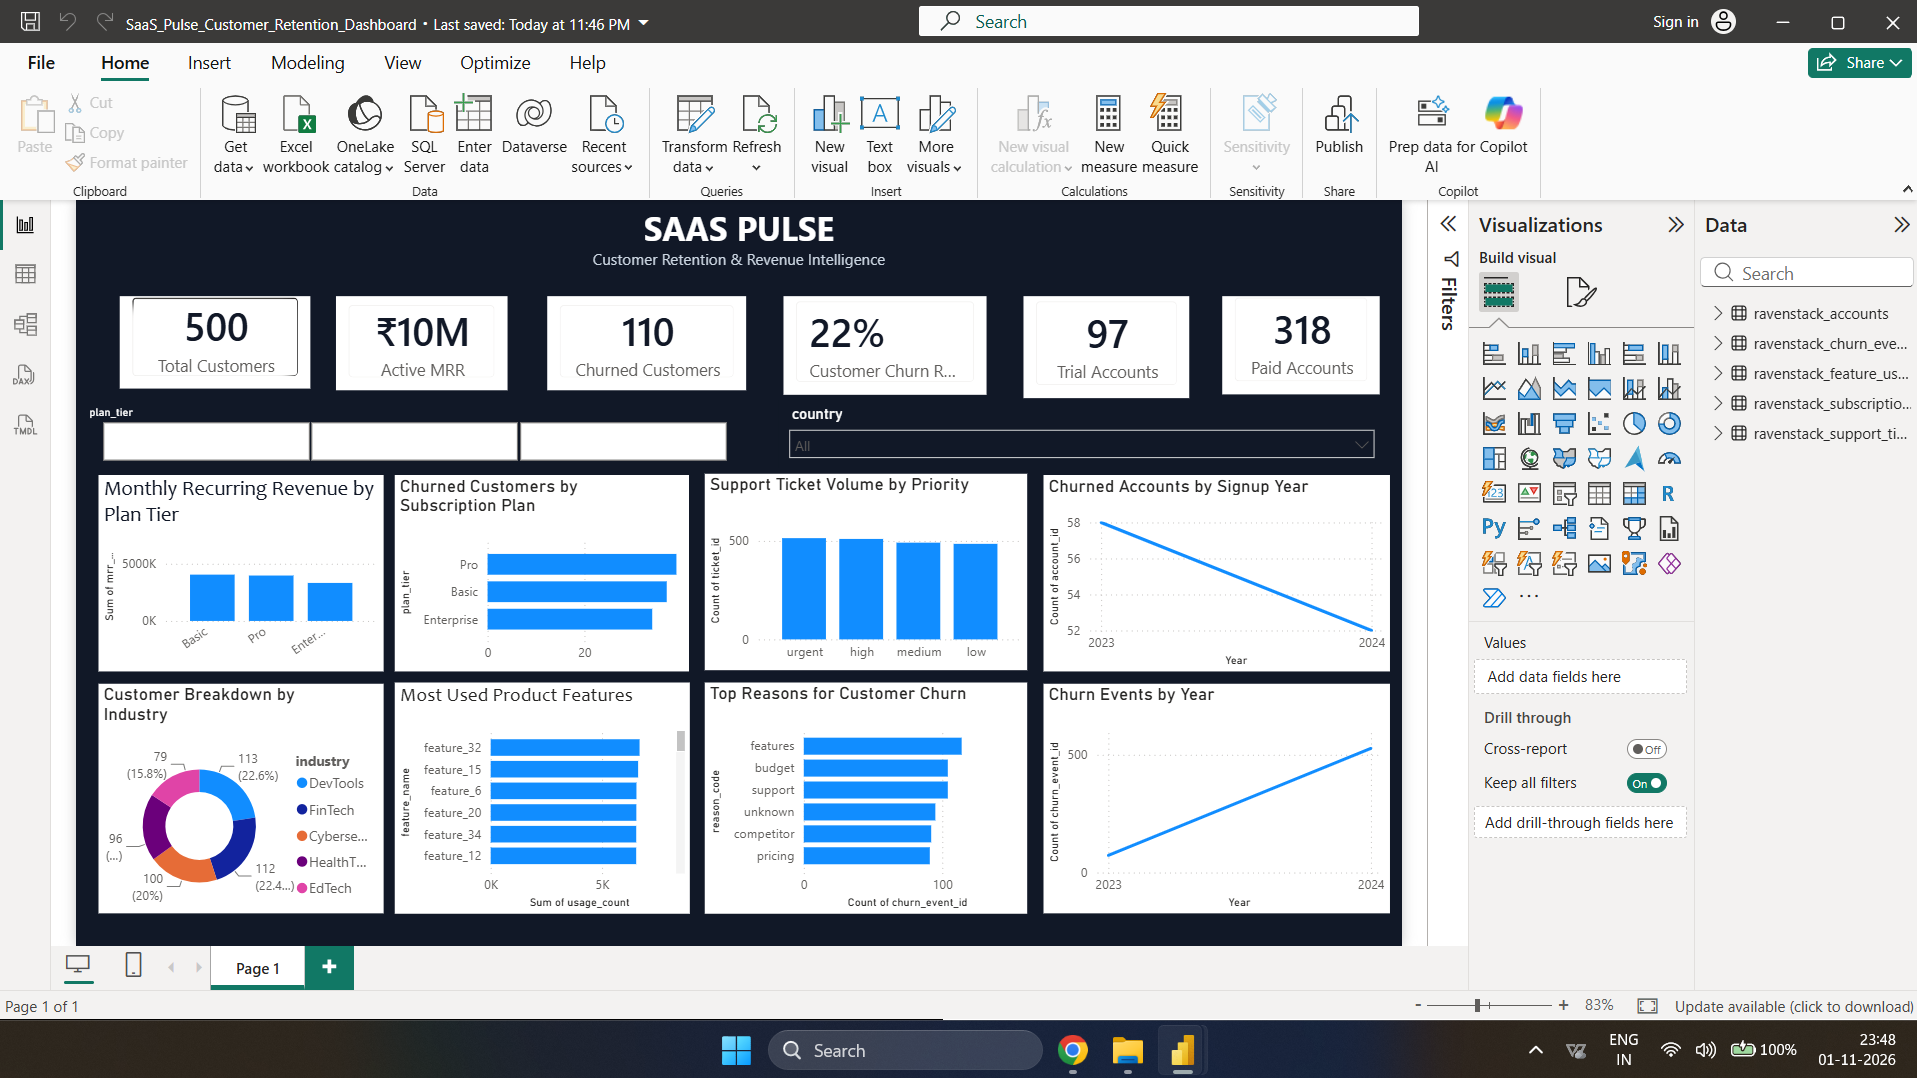

The page's visual inventory and layout, read from the dashboard file:
{"tool":"powerbi","page":{"name":"Page 1","canvas":[1280,720],"ordinal":0},"visuals":[{"type":"cardVisual","fields":{"Data":["ravenstack_accounts.Total Customers"]},"box":[37.4,77.2,194.2,111],"z":0},{"type":"cardVisual","fields":{"Data":["ravenstack_accounts.Active MRR"]},"box":[246.1,84.5,175.4,104.3],"z":1000},{"type":"cardVisual","fields":{"Data":["ravenstack_accounts.Churned Customers"]},"box":[450,84.5,202.9,104.3],"z":2000},{"type":"cardVisual","fields":{"Data":["ravenstack_accounts.Customer Churn Rate"]},"box":[678,80.8,206.3,112.2],"z":3000},{"type":"cardVisual","fields":{"Data":["ravenstack_accounts.Trial Accounts"]},"box":[909.7,80.8,170.1,115.8],"z":4000},{"type":"cardVisual","fields":{"Data":["ravenstack_accounts.Paid Accounts"]},"box":[1101.5,77.2,162.9,115.8],"z":5000},{"type":"clusteredColumnChart","title":"Monthly Recurring Revenue by Plan Tier","fields":{"Category":["ravenstack_accounts.plan_tier"],"Y":["Sum(ravenstack_subscriptions.mrr_amount)"]},"box":[21.7,265.4,275.4,189.9],"z":6000},{"type":"slicer","fields":{"Values":["ravenstack_accounts.plan_tier"]},"box":[0,192.8,652.2,65.2],"z":7000},{"type":"clusteredBarChart","title":"Churned Customers by Subscription Plan","fields":{"Category":["ravenstack_accounts.plan_tier"],"Y":["CountNonNull(ravenstack_accounts.account_id)"]},"box":[307.6,265.4,284.1,189.9],"z":8000},{"type":"lineChart","title":"Churned Accounts by Signup Year","fields":{"Category":["ravenstack_accounts.signup_date.Variation.Date Hierarchy.Year","ravenstack_accounts.signup_date.Variation.Date Hierarchy.Quarter","ravenstack_accounts.signup_date.Variation.Date Hierarchy.Month","ravenstack_accounts.signup_date.Variation.Date Hierarchy.Day"],"Y":["Count(ravenstack_accounts.account_id)"]},"box":[933.8,265.4,334.8,189.9],"z":9000},{"type":"donutChart","title":"Customer Breakdown by Industry","fields":{"Category":["ravenstack_accounts.industry"],"Y":["CountNonNull(ravenstack_accounts.account_id)"]},"box":[21.7,466.9,275.1,222],"z":10000},{"type":"clusteredColumnChart","title":"Support Ticket Volume by Priority","fields":{"Category":["ravenstack_support_tickets.priority"],"Y":["CountNonNull(ravenstack_support_tickets.ticket_id)"]},"box":[606.8,264.2,311.6,189.9],"z":11000},{"type":"clusteredBarChart","title":"Most Used Product Features","fields":{"Category":["ravenstack_feature_usage.feature_name"],"Y":["Sum(ravenstack_feature_usage.usage_count)"]},"box":[307.6,465.7,284.7,223.2],"z":12000},{"type":"clusteredBarChart","title":"Top Reasons for Customer Churn","fields":{"Category":["ravenstack_churn_events.reason_code"],"Y":["CountNonNull(ravenstack_churn_events.churn_event_id)"]},"box":[606.8,465.7,311.3,223.2],"z":13000},{"type":"lineChart","title":"Churn Events by Year","fields":{"Category":["ravenstack_churn_events.churn_date.Variation.Date Hierarchy.Year","ravenstack_churn_events.churn_date.Variation.Date Hierarchy.Quarter","ravenstack_churn_events.churn_date.Variation.Date Hierarchy.Month","ravenstack_churn_events.churn_date.Variation.Date Hierarchy.Day"],"Y":["CountNonNull(ravenstack_churn_events.churn_event_id)"]},"box":[933.8,466.9,334.2,222],"z":14000},{"type":"slicer","fields":{"Values":["ravenstack_accounts.country"]},"box":[678.3,192.8,585.5,65.2],"z":15000},{"type":"textbox","box":[0,0,1279.7,92.8],"z":16000}]}

Visuals, with their boxes on the page's 1280x720 design canvas (x1, y1, x2, y2). These are canvas units, not pixel positions in the 1917x1078 screenshot, which may show the page scaled, cropped or inside an application window:
cardVisual - ravenstack_accounts.Total Customers: BBox(37, 77, 232, 188)
cardVisual - ravenstack_accounts.Active MRR: BBox(246, 84, 422, 189)
cardVisual - ravenstack_accounts.Churned Customers: BBox(450, 84, 653, 189)
cardVisual - ravenstack_accounts.Customer Churn Rate: BBox(678, 81, 884, 193)
cardVisual - ravenstack_accounts.Trial Accounts: BBox(910, 81, 1080, 197)
cardVisual - ravenstack_accounts.Paid Accounts: BBox(1102, 77, 1264, 193)
"Monthly Recurring Revenue by Plan Tier" clusteredColumnChart: BBox(22, 265, 297, 455)
slicer - ravenstack_accounts.plan_tier: BBox(0, 193, 652, 258)
"Churned Customers by Subscription Plan" clusteredBarChart: BBox(308, 265, 592, 455)
"Churned Accounts by Signup Year" lineChart: BBox(934, 265, 1269, 455)
"Customer Breakdown by Industry" donutChart: BBox(22, 467, 297, 689)
"Support Ticket Volume by Priority" clusteredColumnChart: BBox(607, 264, 918, 454)
"Most Used Product Features" clusteredBarChart: BBox(308, 466, 592, 689)
"Top Reasons for Customer Churn" clusteredBarChart: BBox(607, 466, 918, 689)
"Churn Events by Year" lineChart: BBox(934, 467, 1268, 689)
slicer - ravenstack_accounts.country: BBox(678, 193, 1264, 258)
textbox: BBox(0, 0, 1280, 93)
